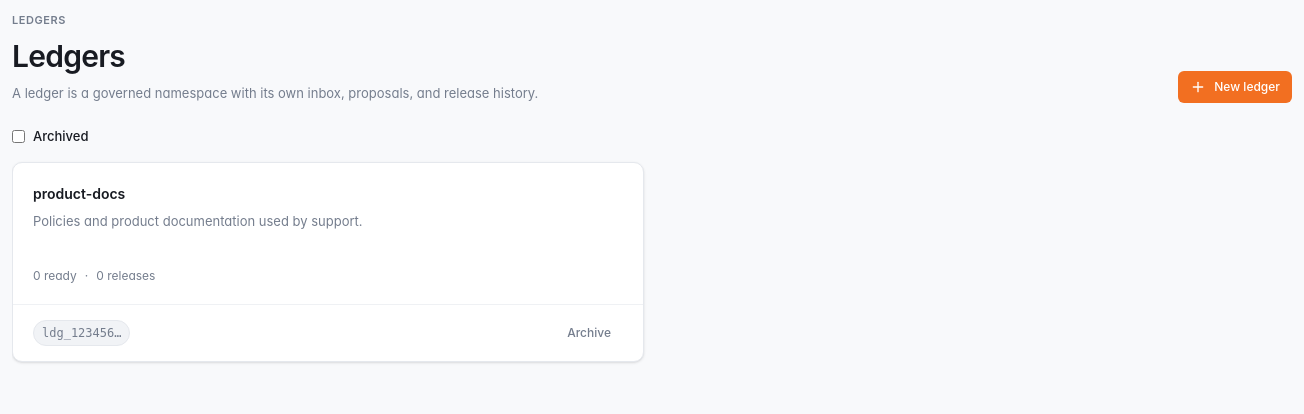
Scenario: LedgersPage › switches the active ledger from a rendered card
The width and height of the screenshot is (1304, 414).
Click the button "product-docs".
click(79, 193)  # box [13,163,643,304]
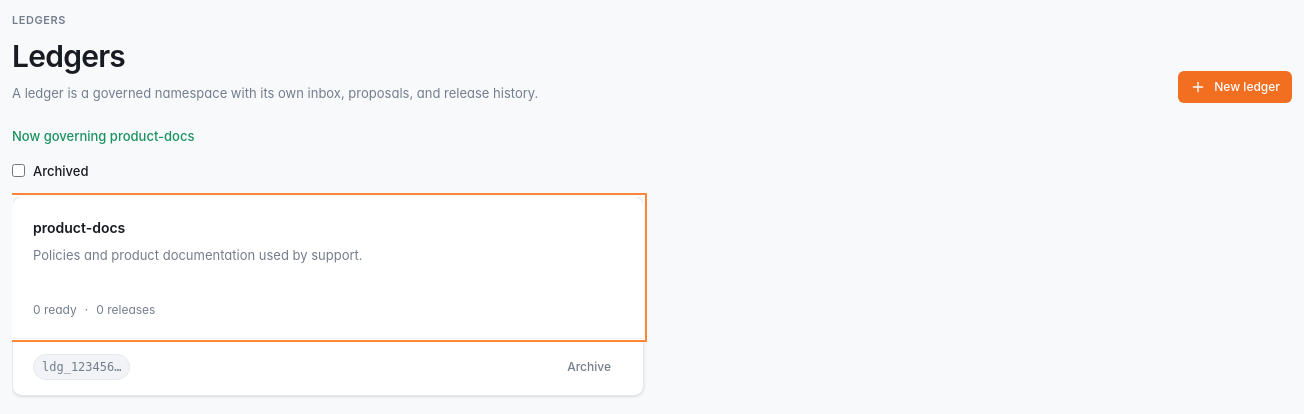
Result: the message reads "Now governing product-docs" at [12,128,194,144]
